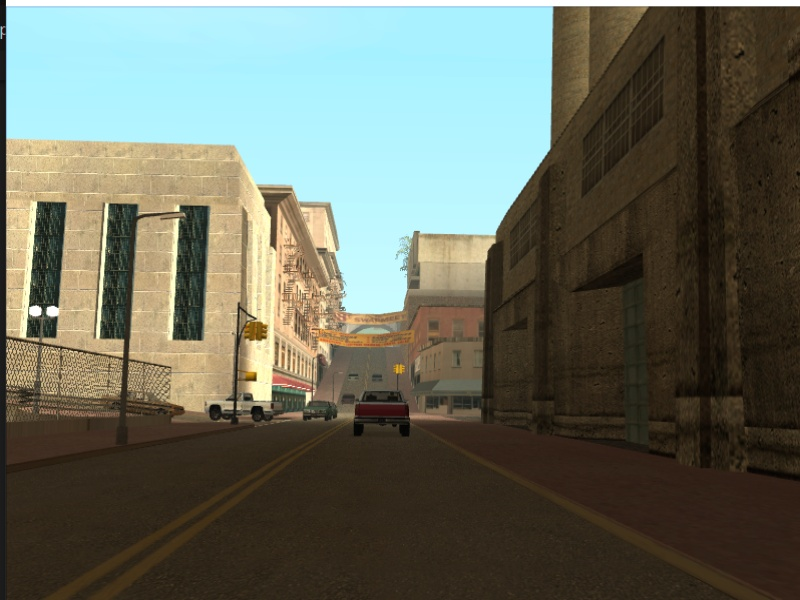pole: (116, 215, 139, 445), (233, 305, 245, 425)
vehicle: (353, 387, 414, 440), (200, 392, 285, 423), (303, 398, 333, 422)
